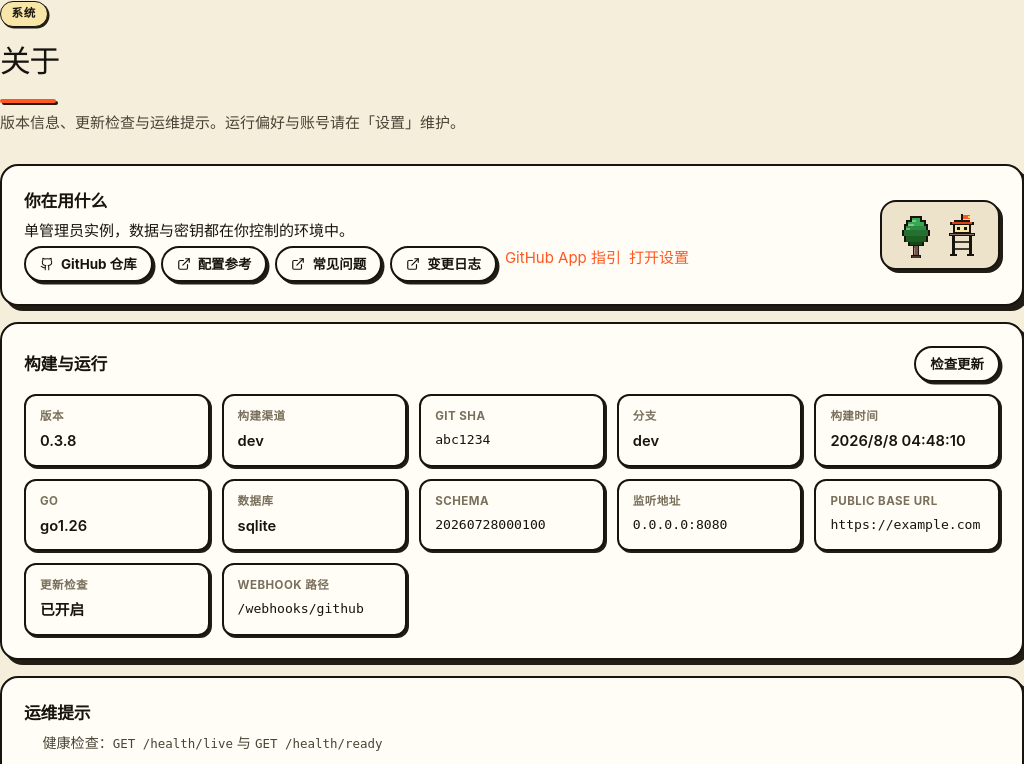
it: 关于页 › 检查更新后展示已是最新提示
expect the element "构建与运行" is shown: met, box [0,322,1023,660]
What coordinates should you click on to do the following:
click the button "检查更新"
I would click on:
 (957, 364)
Its box is [914,346,1000,382].
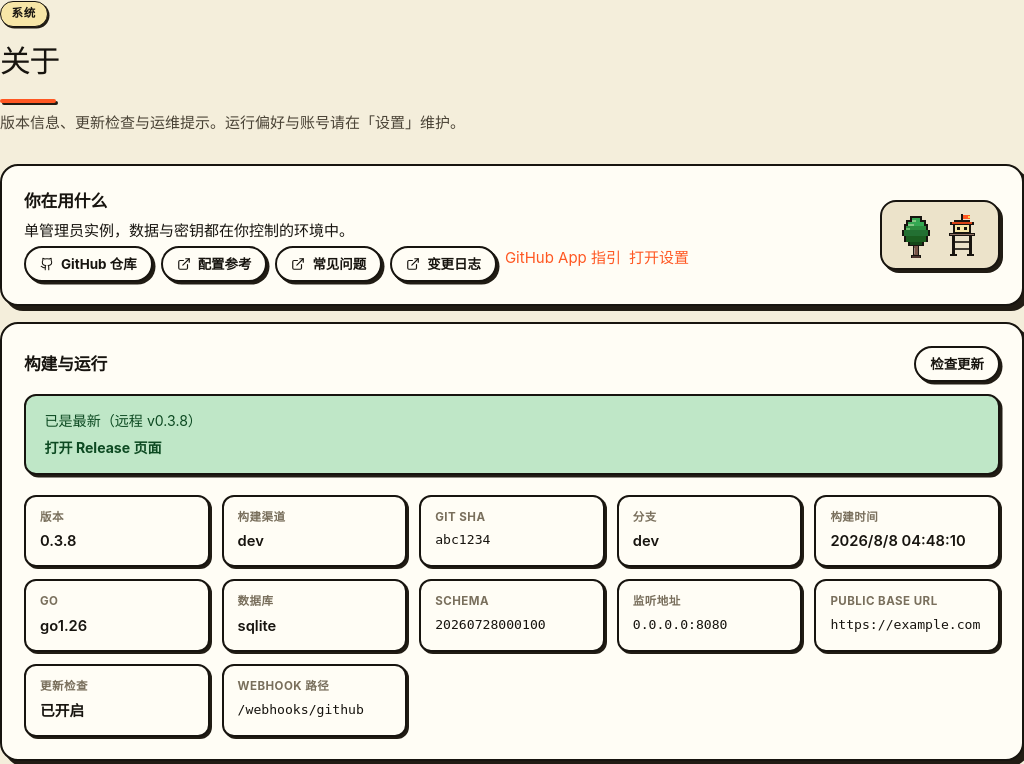
expect the text "已是最新（远程 v0.3.8）" is shown: met, box [44,412,202,429]
